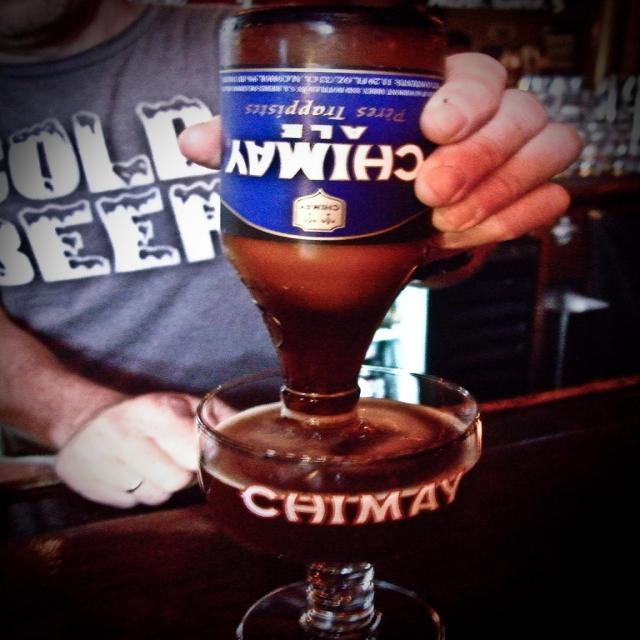chimay: (222, 71, 447, 243), (234, 468, 473, 529)
